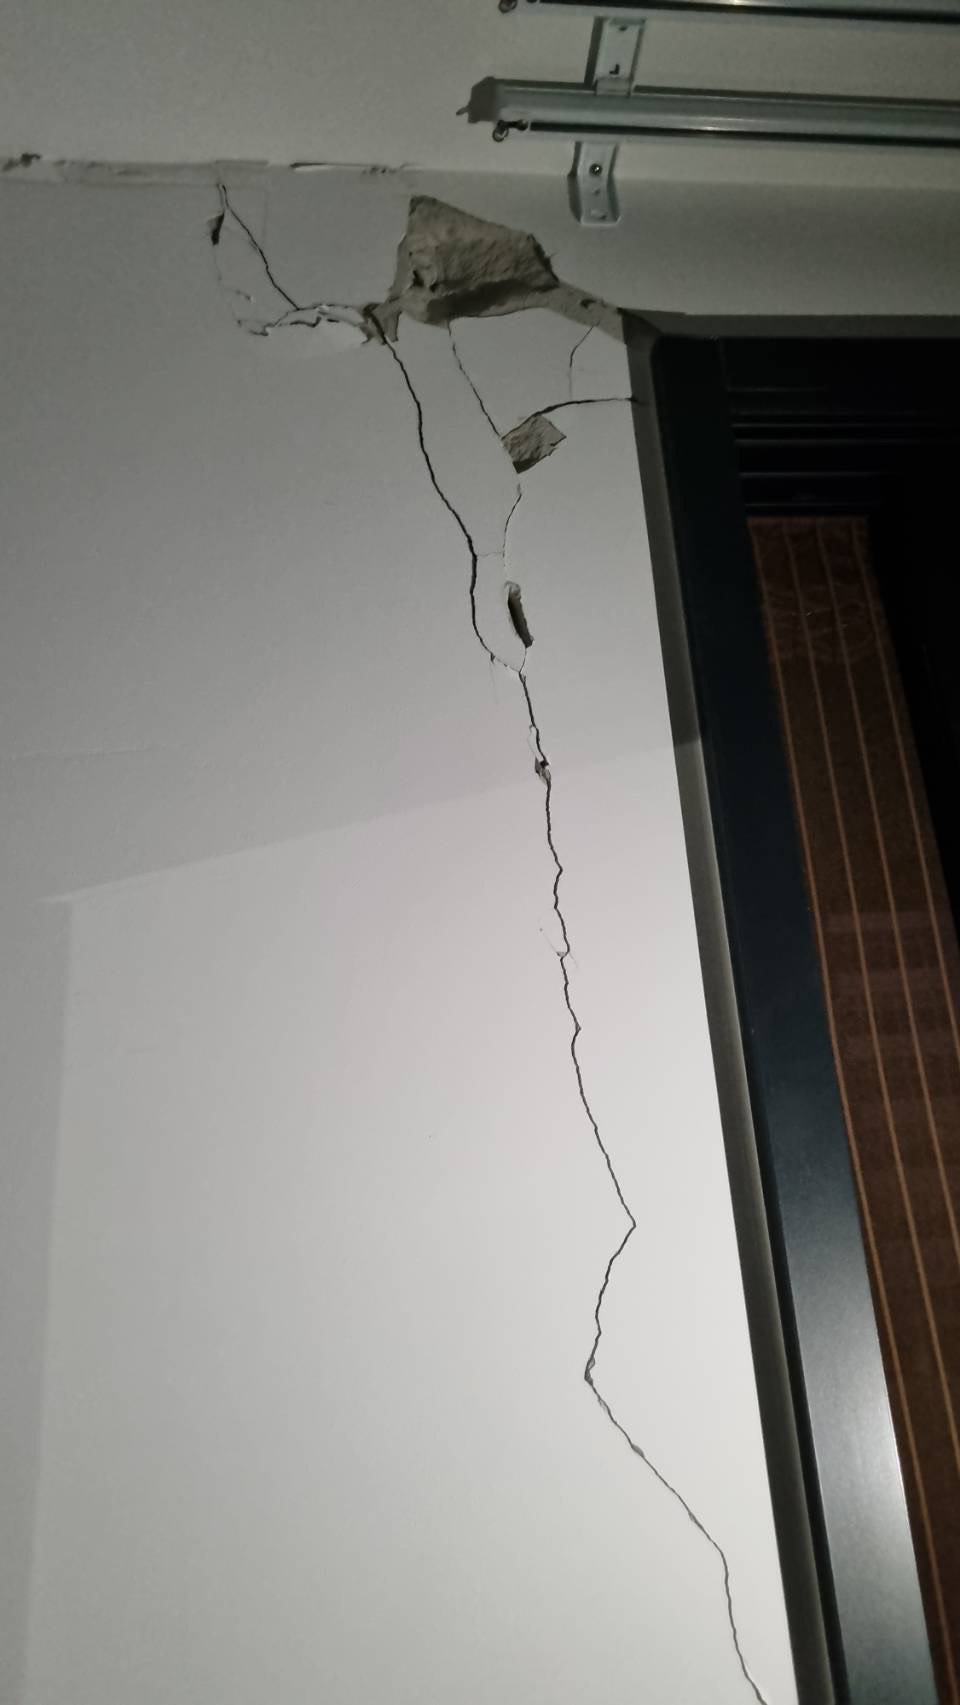Medium: (301, 176, 608, 1079)
